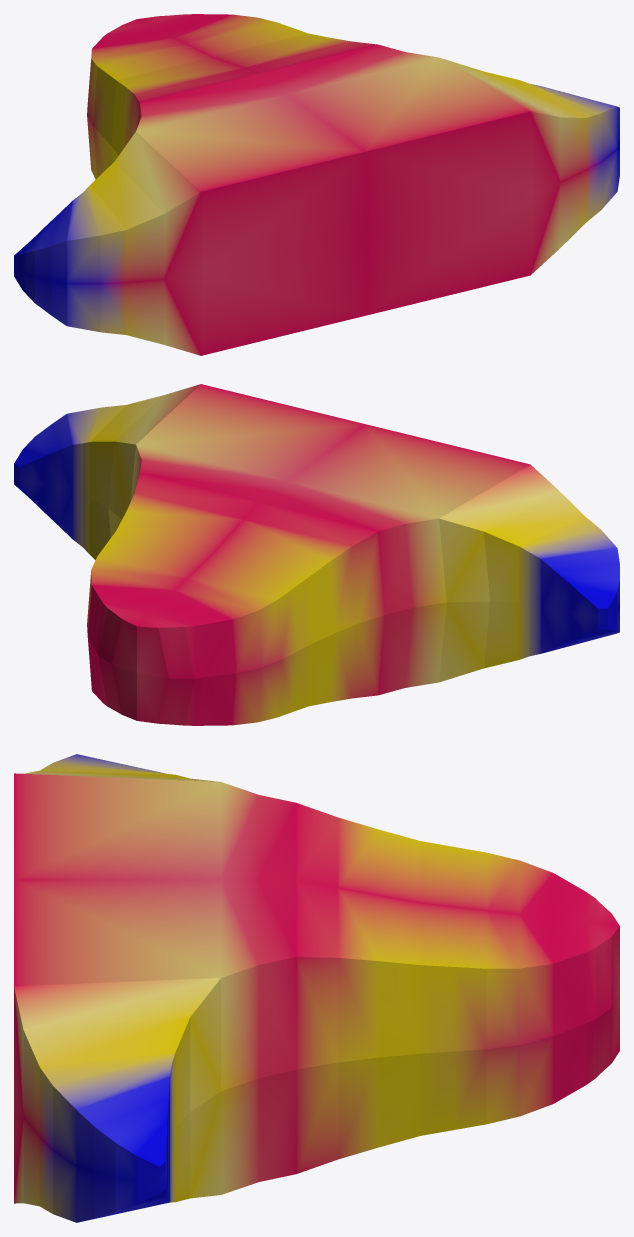
Rendered from Vessel.fbx.
3 views of the same model, one above another, from view 1: azimuth 30°, elevation 25°; view 2: azimuth 150°, elevation 25°; view 3: azimuth 270°, elevation 25° (orthographic). The views are drawn at different scales.
Parts seen in each view (by area): view 1: Cube; view 2: Cube; view 3: Cube.
Boxes of the visible parts, x1,y1,x2,y2 form: Cube: (14,14,619,355); Cube: (14,384,619,725); Cube: (14,754,619,1222).
Bounding box in the file's own units: 300 × 79.08 × 200.
